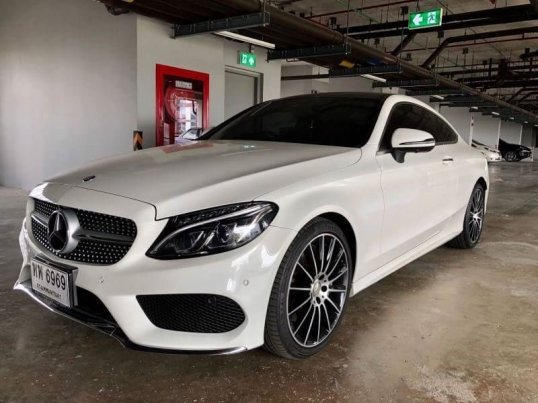sedan: (15, 90, 491, 358)
